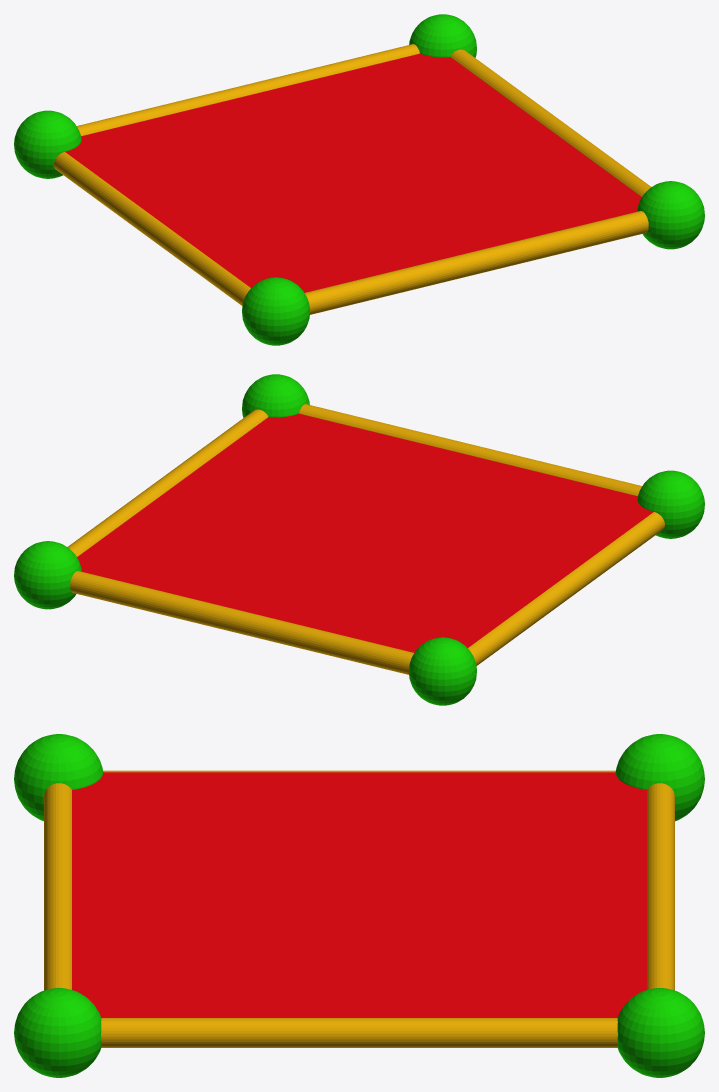
The model's file is quadrado.fbx.
3 views of the same model, one above another, from view 1: azimuth 30°, elevation 25°; view 2: azimuth 150°, elevation 25°; view 3: azimuth 270°, elevation 25° (orthographic). The views are drawn at different scales.
Parts seen in each view (by area): view 1: Plane, Cylinder, Sphere; view 2: Plane, Cylinder, Sphere; view 3: Plane, Cylinder, Sphere.
Boxes of the visible parts, x1,y1,x2,y2 form: Plane: [65, 53, 641, 292]; Cylinder: [54, 44, 651, 314]; Sphere: [14, 14, 704, 345]; Plane: [77, 413, 653, 652]; Cylinder: [67, 404, 664, 674]; Sphere: [14, 374, 704, 705]; Plane: [72, 772, 646, 1017]; Cylinder: [44, 770, 674, 1047]; Sphere: [14, 734, 704, 1077].
Bounding box in the file's own units: 230 × 30 × 230.
